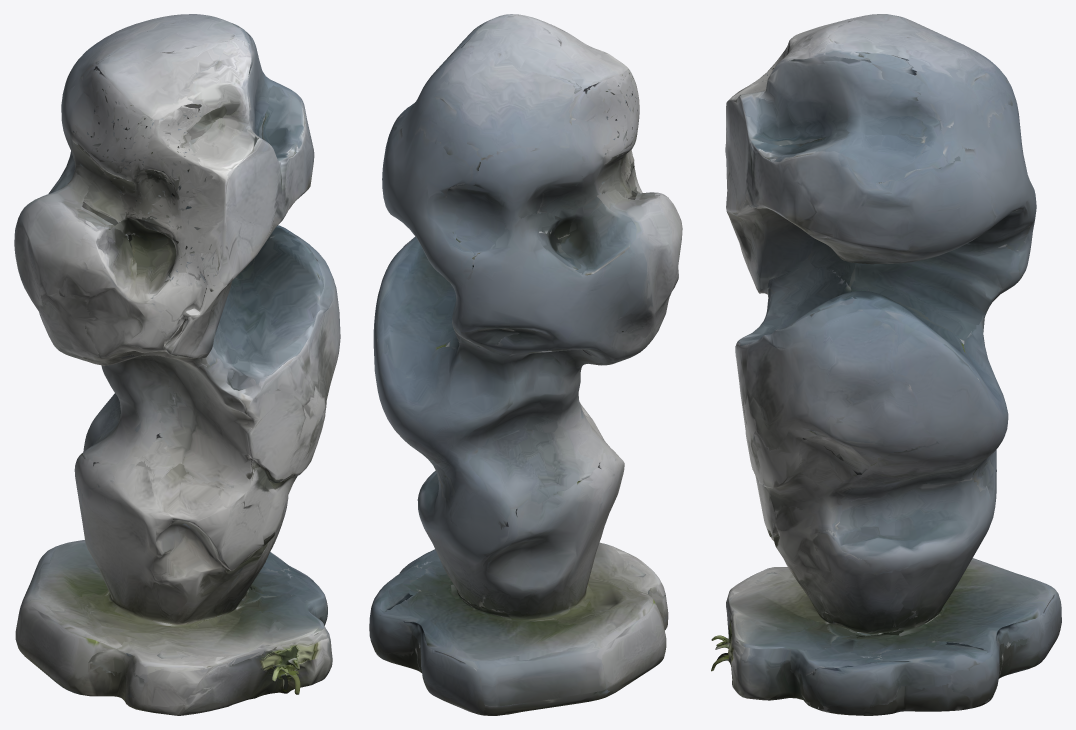
The model's file is stoneBankB-compressed.glb.
3 renders of one model, left to right at view 1: azimuth 30°, elevation 25°; view 2: azimuth 150°, elevation 25°; view 3: azimuth 270°, elevation 25°, orthographic. The views are drawn at different scales.
Parts seen in each view (by area): view 1: node_0; view 2: node_0; view 3: node_0.
Part boxes in pixels (x1,y1,x2,y2): node_0: (14,14,340,715); node_0: (369,14,682,715); node_0: (711,14,1061,715).
Size of the model in its own units: 0.648 by 1.35 by 0.6767.
Materials: 1 (1 with a texture image).
